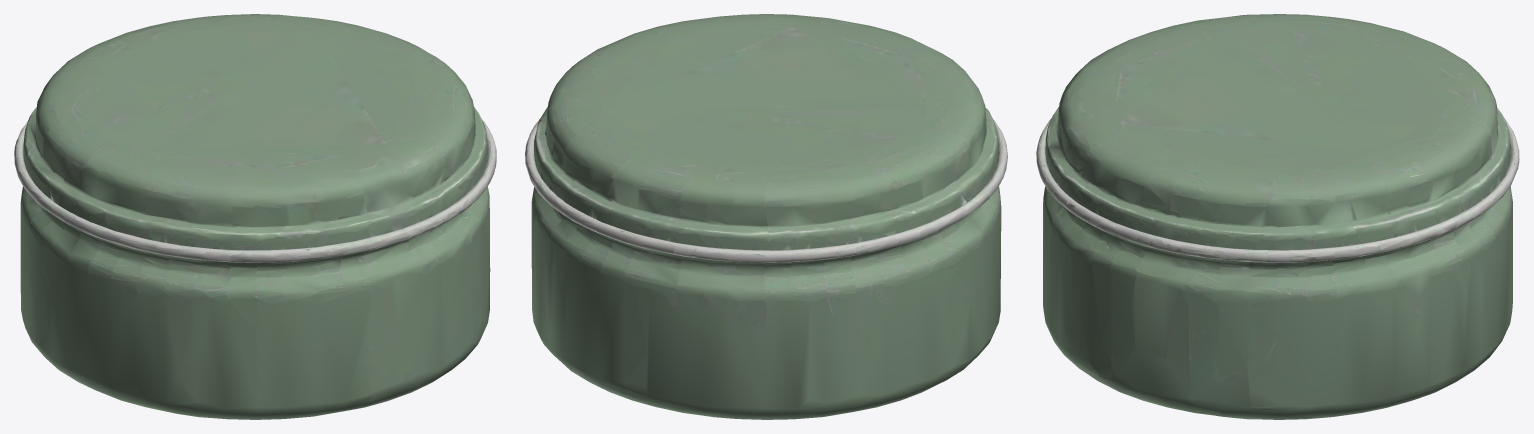
The model's file is tin.glb.
3 renders of one model, left to right at view 1: azimuth 30°, elevation 25°; view 2: azimuth 150°, elevation 25°; view 3: azimuth 270°, elevation 25°, orthographic.
Size of the model in its own units: 1.9 by 1.02 by 1.9.
1 material, 1 textured.
